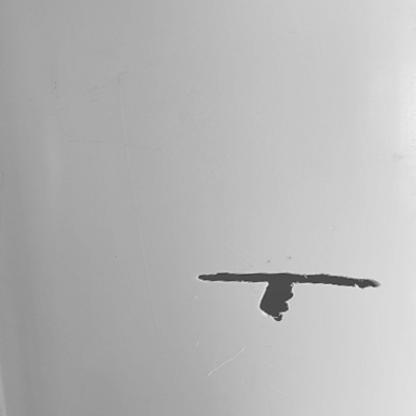fengxi: (198, 271, 381, 289)
kongdong: (259, 283, 295, 322)
